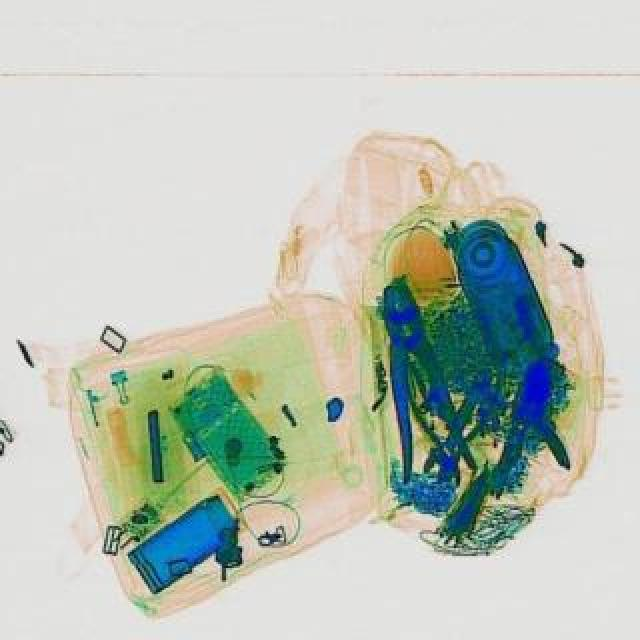scissors: (418, 364, 498, 480)
wrench: (354, 276, 476, 484), (390, 344, 502, 488)
